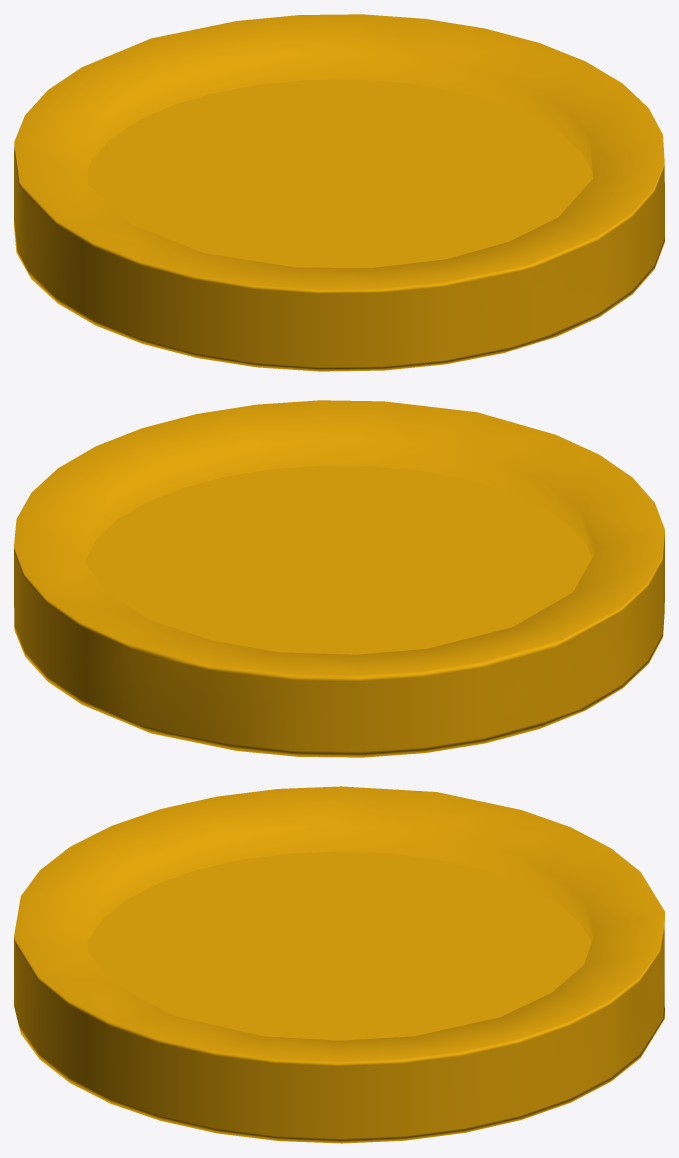
File: Coin.fbx
3 renders of one model, top to bottom at view 1: azimuth 30°, elevation 25°; view 2: azimuth 150°, elevation 25°; view 3: azimuth 270°, elevation 25°, orthographic.
Visible parts, largest first — view 1: Coin; view 2: Coin; view 3: Coin.
Boxes of the visible parts, x1=… form: Coin: x1=14, y1=14, x2=664, y2=371; Coin: x1=14, y1=400, x2=664, y2=757; Coin: x1=14, y1=786, x2=664, y2=1143.
Bounding box in the file's own units: 43.78 × 6.11 × 43.81.
